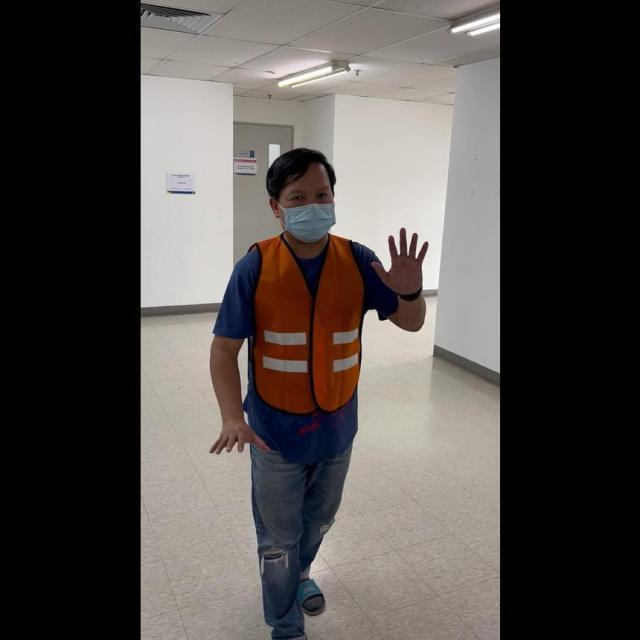bare_hand: (370, 223, 428, 296), (207, 412, 266, 458)
